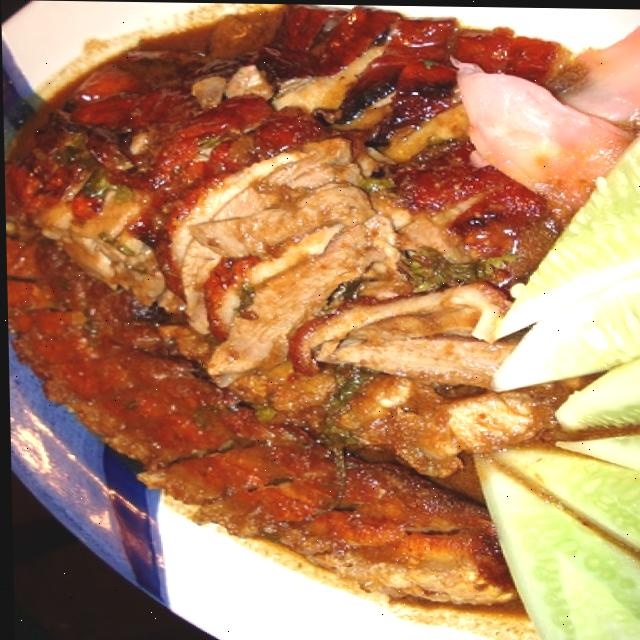烧串烤肉: (11, 11, 640, 600)
